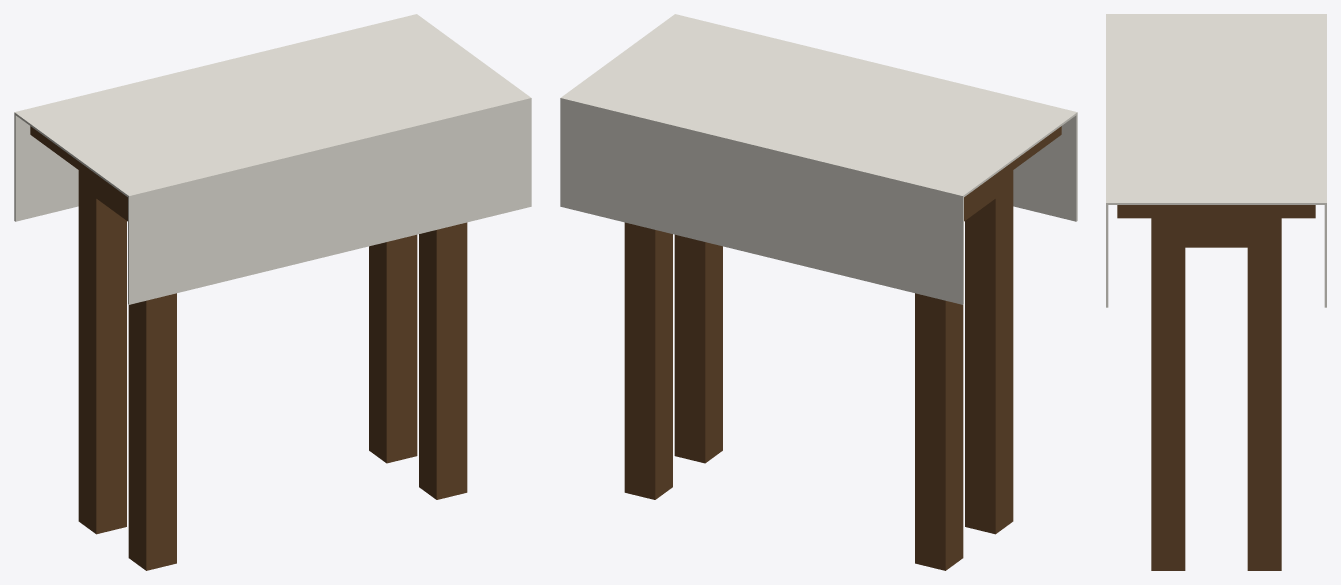
The picture shows the model from 3 angles, left to right: view 1: azimuth 30°, elevation 25°; view 2: azimuth 150°, elevation 25°; view 3: azimuth 270°, elevation 25°; orthographic projection. The views are drawn at different scales.
Parts seen in each view (by area): view 1: parametric-variant-table-1st-pub-48b9d24e1c1a4624c74e; view 2: parametric-variant-table-1st-pub-48b9d24e1c1a4624c74e; view 3: parametric-variant-table-1st-pub-48b9d24e1c1a4624c74e.
Boxes of the visible parts, bbox=[...] form: parametric-variant-table-1st-pub-48b9d24e1c1a4624c74e: bbox=[14, 14, 531, 570]; parametric-variant-table-1st-pub-48b9d24e1c1a4624c74e: bbox=[560, 14, 1077, 570]; parametric-variant-table-1st-pub-48b9d24e1c1a4624c74e: bbox=[1106, 14, 1326, 570].
Bounding box in the file's own units: 0.79 × 0.754 × 0.39.
